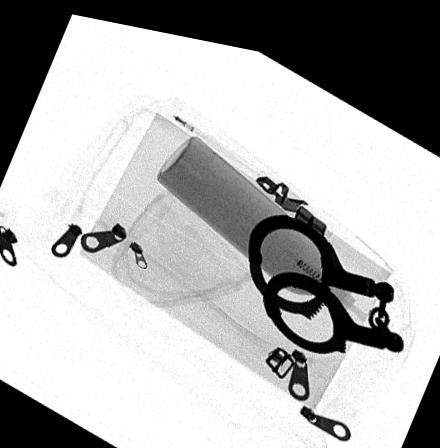HandCuffs: (247, 200, 402, 339)
